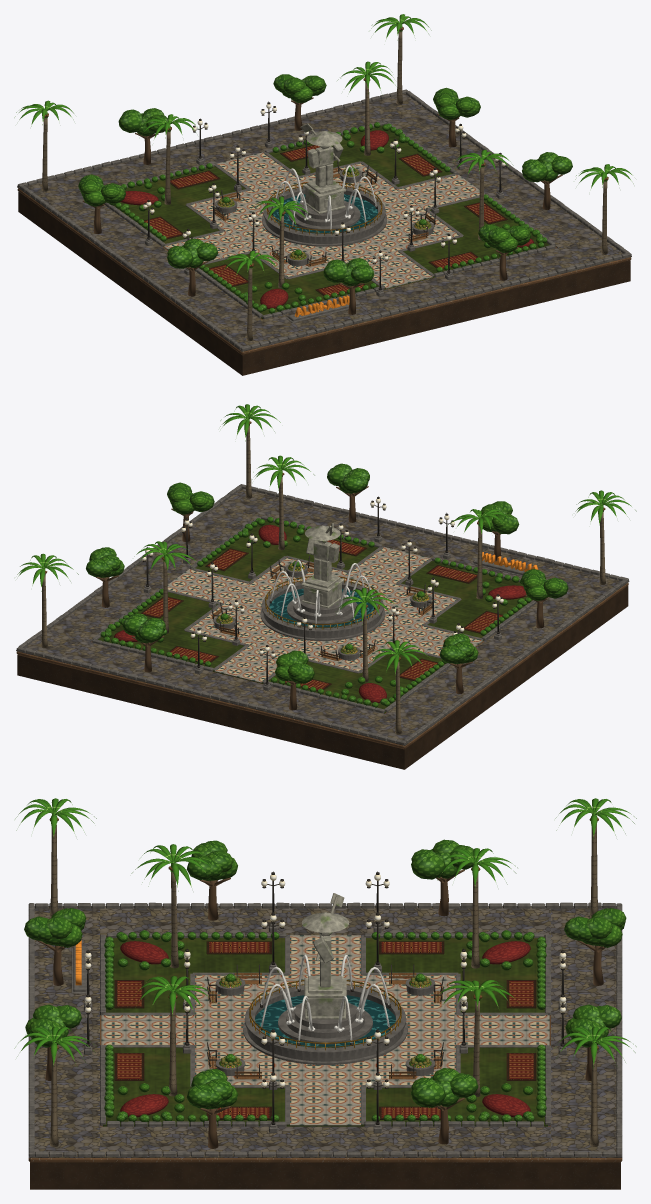
The model's file is alun_alun_full.fbx.
3 views of the same model, one above another, from view 1: azimuth 30°, elevation 25°; view 2: azimuth 150°, elevation 25°; view 3: azimuth 270°, elevation 25° (orthographic). The views are drawn at different scales.
Visible parts, largest first — view 1: AA_Cobble, AA_PlazaTegel, AA_BaseSoil, AA_Lawn, Props_Produce3, Props_Produce22, AA_Kerbs, Props_Produce2, AA_FountainBasin, Props_Produce, AA_PanelBatik, AA_StatueFarmer (+8 smaller); view 2: AA_Cobble, AA_PlazaTegel, AA_BaseSoil, AA_Lawn, Props_Produce22, Props_Produce3, AA_Kerbs, Props_Produce2, AA_FountainBasin, AA_PanelBatik, AA_BaseDirt, AA_StatueFarmer (+8 smaller); view 3: AA_Cobble, AA_PlazaTegel, AA_Lawn, Props_Produce22, AA_BaseSoil, Props_Produce3, AA_Kerbs, Props_Produce2, AA_FountainBasin, AA_PanelBatik, Props_Produce, AA_StatueFarmer (+9 smaller).
Boxes of the visible parts, box(x1,y1,x2,y2) form: AA_Cobble: box(17, 93, 631, 351); AA_PlazaTegel: box(163, 152, 484, 288); AA_BaseSoil: box(18, 191, 630, 375); AA_Lawn: box(114, 125, 549, 319); Props_Produce3: box(115, 74, 518, 313); Props_Produce22: box(302, 14, 633, 259); AA_Kerbs: box(17, 89, 631, 350); Props_Produce2: box(14, 97, 518, 341); AA_FountainBasin: box(262, 187, 386, 246); Props_Produce: box(44, 111, 263, 312); AA_PanelBatik: box(144, 145, 504, 295); AA_StatueFarmer: box(300, 123, 345, 214); AA_Cobble: box(16, 488, 629, 745); AA_PlazaTegel: box(163, 547, 482, 682); AA_BaseSoil: box(17, 586, 628, 769); AA_Lawn: box(98, 520, 532, 713); Props_Produce22: box(17, 404, 352, 653); Props_Produce3: box(134, 468, 526, 707); AA_Kerbs: box(16, 484, 628, 744); Props_Produce2: box(132, 486, 636, 734); AA_FountainBasin: box(260, 581, 385, 640); AA_PanelBatik: box(143, 540, 502, 689); AA_BaseDirt: box(16, 583, 628, 749); AA_StatueFarmer: box(301, 523, 344, 608); AA_Cobble: box(28, 906, 622, 1157); AA_PlazaTegel: box(101, 935, 549, 1125); AA_Lawn: box(103, 937, 547, 1126); Props_Produce22: box(14, 976, 636, 1148); AA_BaseSoil: box(30, 1162, 620, 1189); Props_Produce3: box(24, 861, 626, 1080); AA_Kerbs: box(28, 902, 622, 1157); Props_Produce2: box(15, 798, 636, 1081); AA_FountainBasin: box(243, 985, 407, 1064); AA_PanelBatik: box(117, 942, 533, 1117); Props_Produce: box(49, 812, 598, 939); AA_StatueFarmer: box(301, 893, 349, 1019).
Size of the model in its own units: 106 by 30.36 by 105.
Materials: 12 (12 with a texture image).
